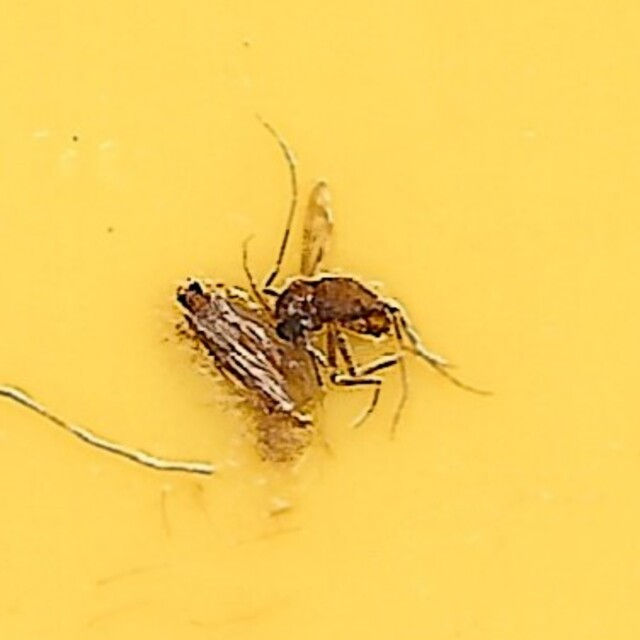Nematocera: (262, 166, 470, 409)
Trichoptera: (170, 264, 334, 474)
